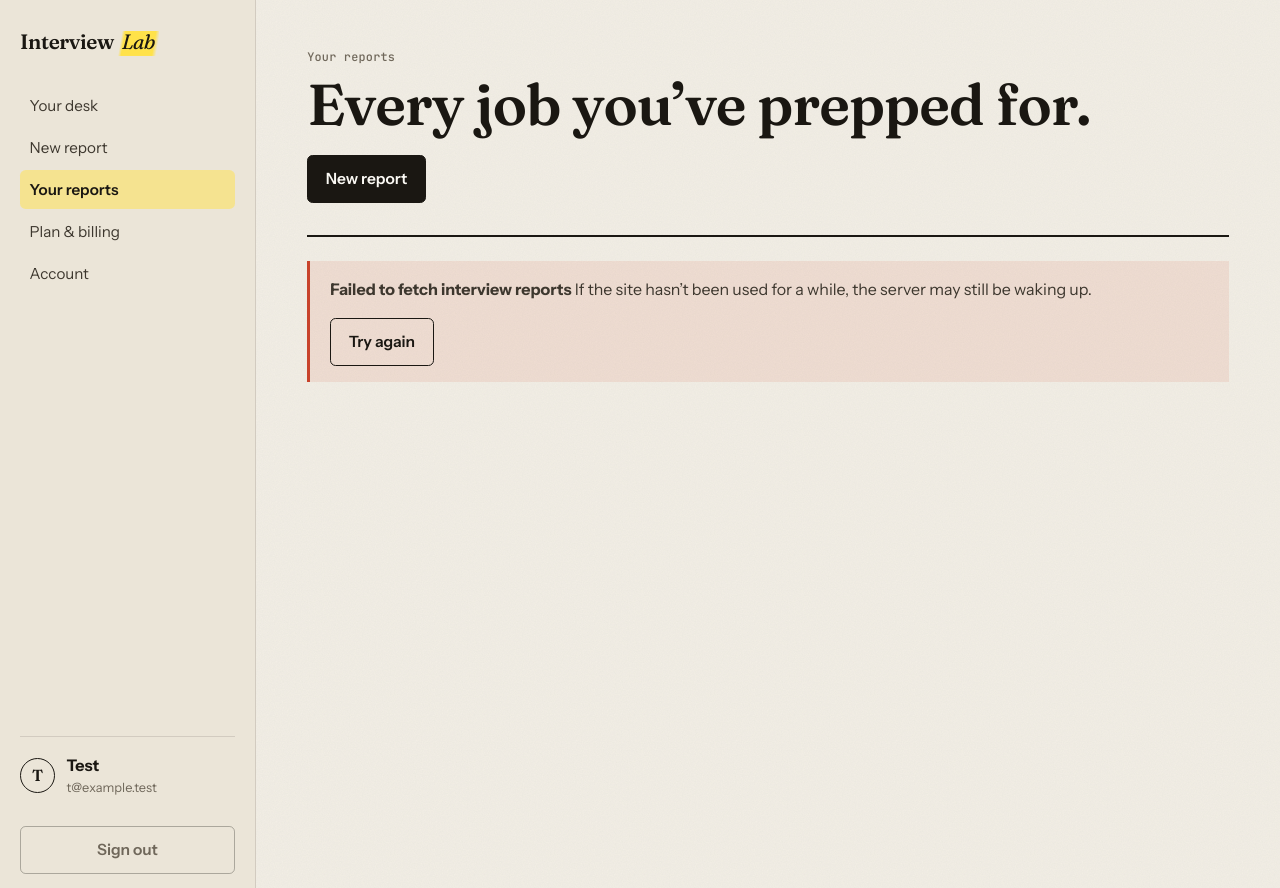
Test case: Report history › shows an error with a working retry
This screenshot has width=1280, height=888.
Expected: the message shows "Failed to fetch interview reports", [330, 279, 572, 299]
Click the button "Try again" at (382, 342), box [330, 318, 434, 366]
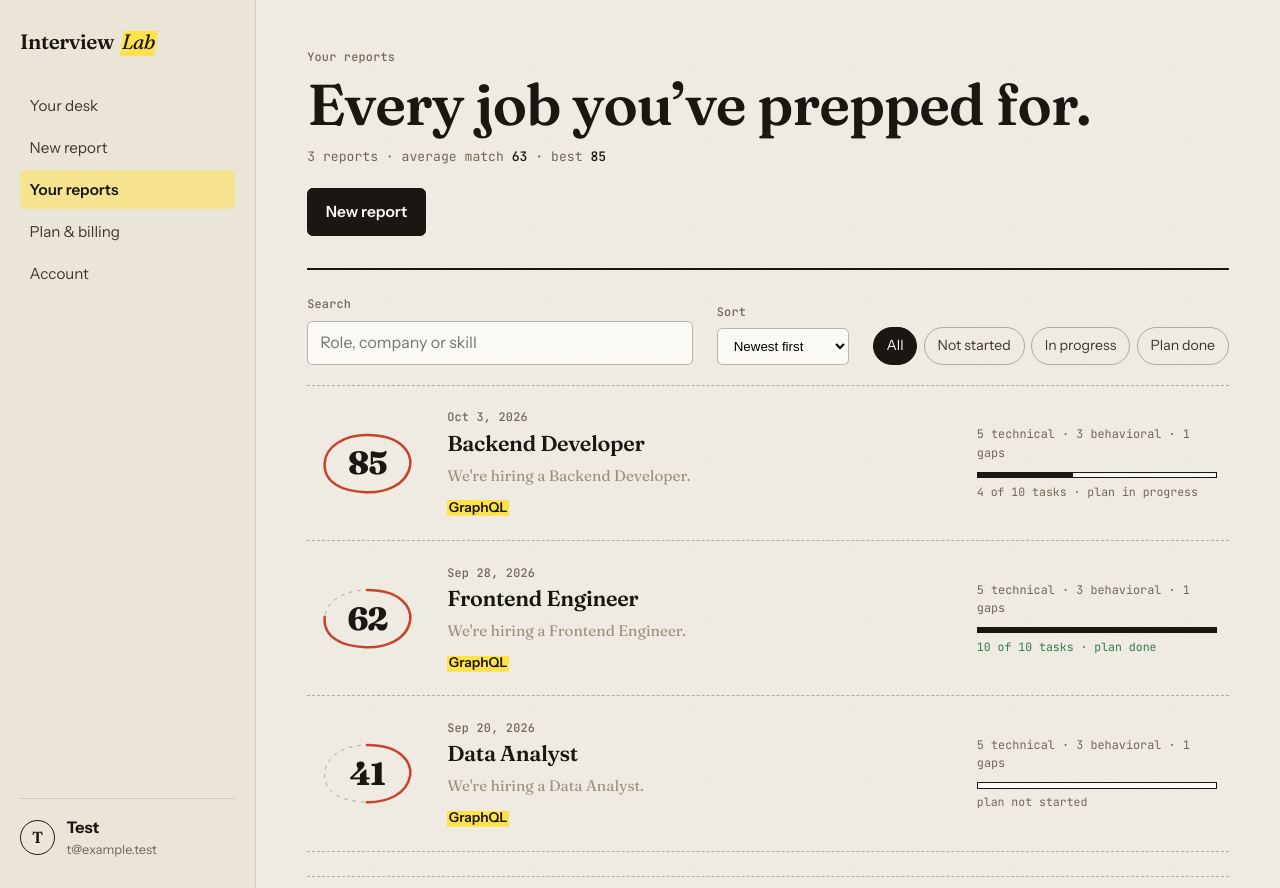
Expected: the heading "Backend Developer" is shown, [447, 430, 644, 457]
